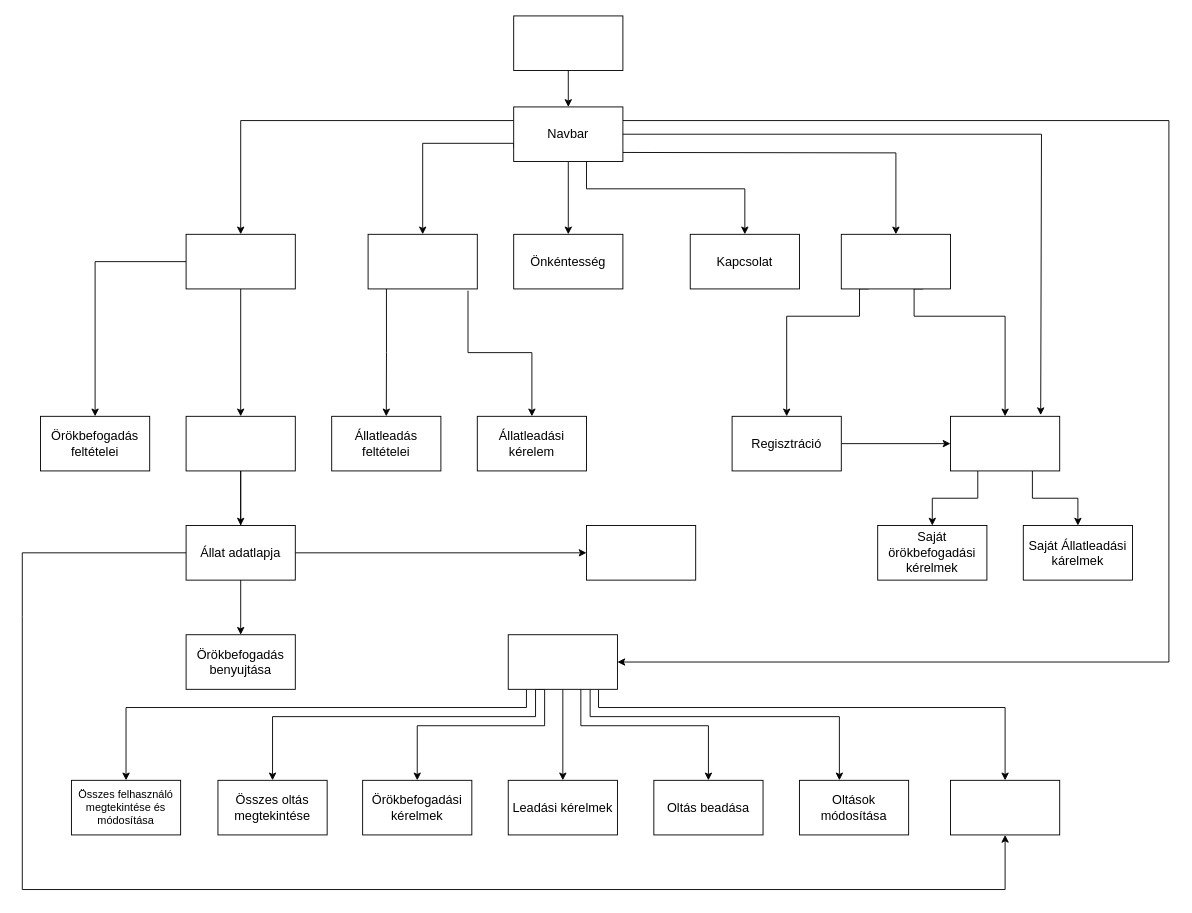
This 1192x913 diagram has some shape labels left out. Each missing label, with the box of its shape:
Admin kezelő felület: (507, 634, 617, 689)
Bejelentkezés: (840, 233, 950, 289)
Fiók: (950, 415, 1060, 471)
Főoldal: (513, 15, 623, 71)
Oltások: (586, 525, 696, 580)
Állatleadás: (367, 233, 477, 289)
Állatok módosítása: (950, 779, 1060, 835)
Örökbefogadható állatok: (185, 415, 295, 471)
Örökbefogadás: (185, 233, 295, 289)
